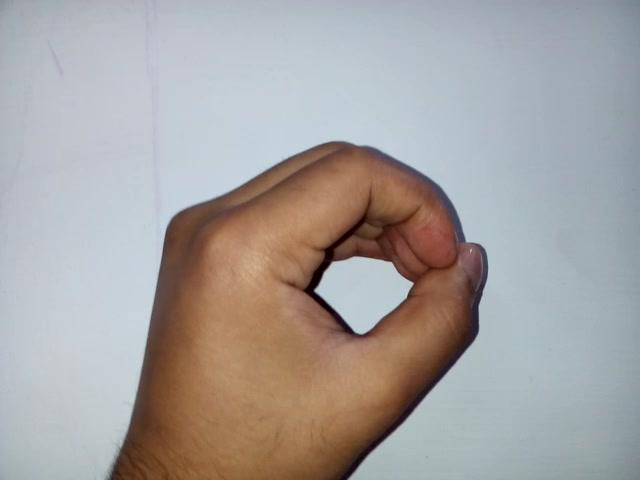O: (133, 125, 504, 477)
